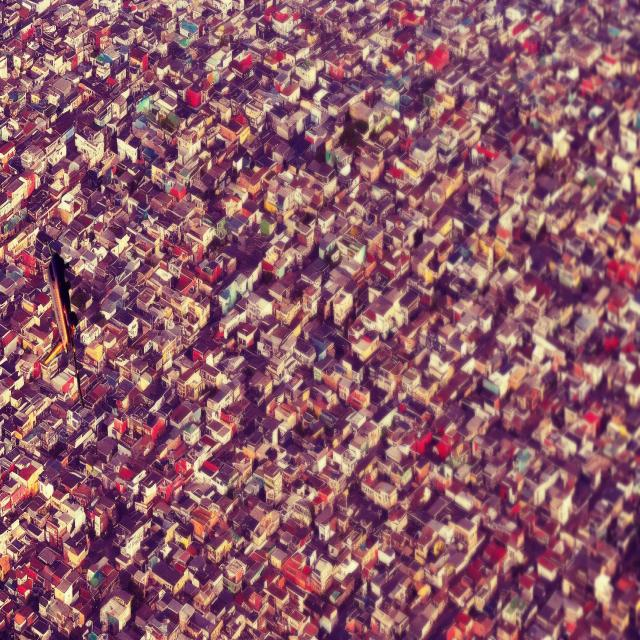airplane: (41, 240, 85, 408)
